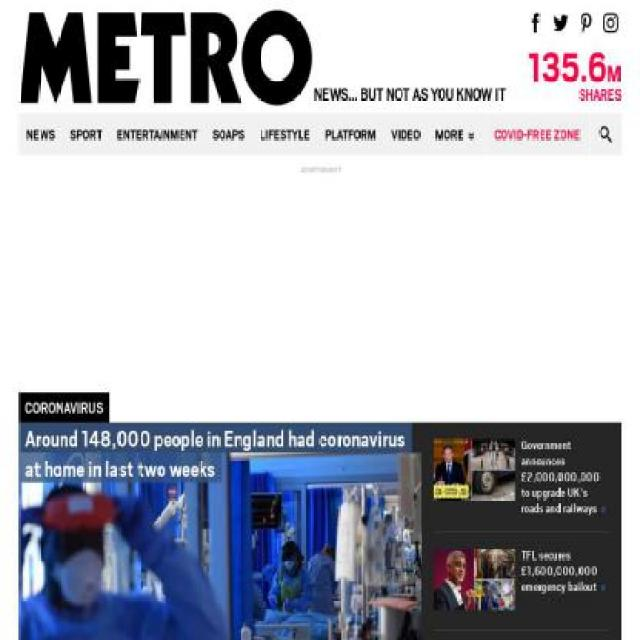button: (19, 290, 422, 593), (434, 485, 515, 547), (434, 277, 515, 338), (434, 387, 515, 448), (484, 113, 590, 155), (109, 113, 205, 155), (252, 113, 318, 155), (318, 113, 384, 155), (428, 113, 483, 155), (62, 113, 110, 155), (205, 113, 252, 155), (383, 113, 428, 155), (19, 113, 63, 155), (589, 113, 622, 155), (549, 8, 571, 38), (599, 8, 621, 38), (525, 8, 546, 38), (575, 8, 596, 38)
